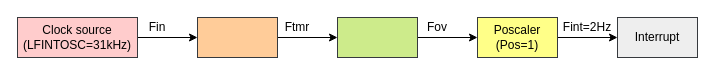
This 715x75 diagram has some shape labels left out. Each missing label, with the centre of its shape:
Prescaler (Pre=8): the point at 237,37
TMR0 Body (TMR0): the point at 377,37
